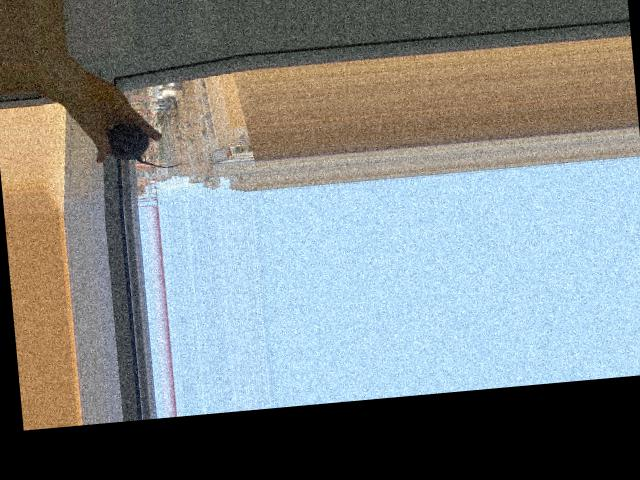beet: (108, 117, 184, 173)
